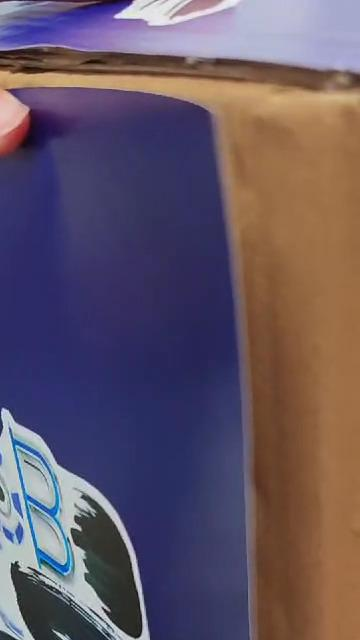B_R1: (0, 367, 264, 640)
